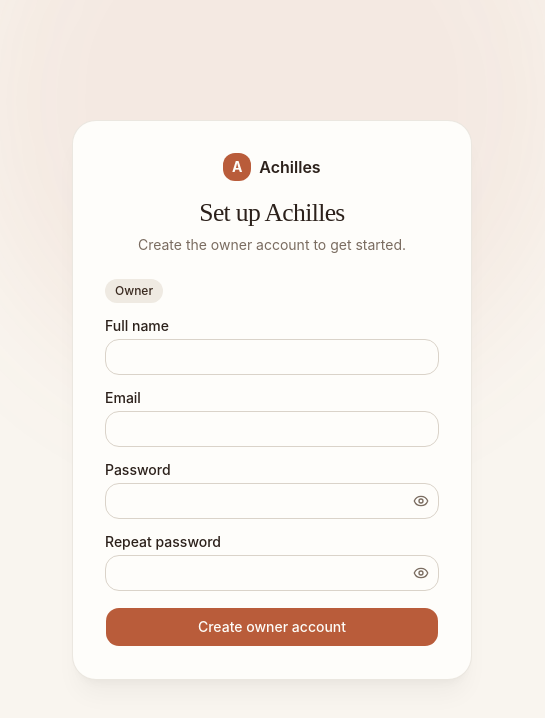
Test: SetupWizardPage › shows the owner badge and a password strength hint
The width and height of the screenshot is (545, 718).
Expected: the text "Owner" is shown, [105,279,163,303]
In the password field labelled "Password": (272, 501) [105,483,439,519], type "short"
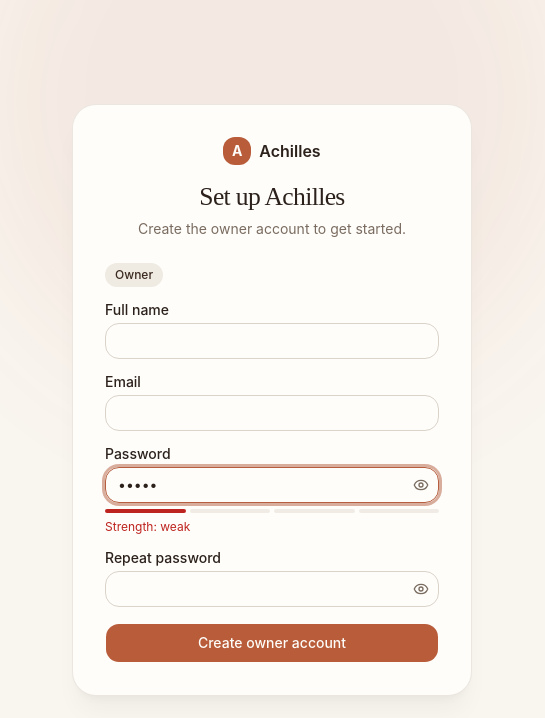
Now the text "Strength: weak" is shown, box [105,519,190,534]
